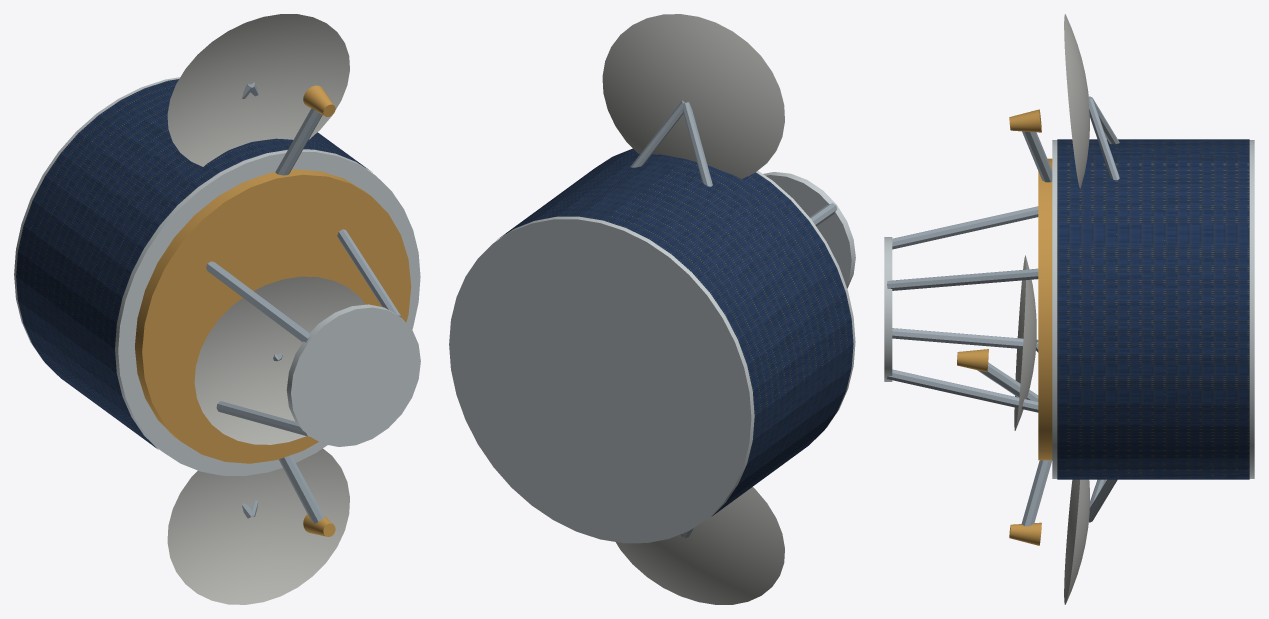
The model's file is ref-hs-356-8697.glb.
3 views of the same model, side by side, from view 1: azimuth 30°, elevation 25°; view 2: azimuth 150°, elevation 25°; view 3: azimuth 270°, elevation 25° (orthographic). The views are drawn at different scales.
Visible parts, largest first — view 1: Communications reflector (×2), Body-mounted solar cells, Despun equipment deck, Antenna tower platform, Solar drum core, Deck-mounted reflector, Antenna tower leg (×3), Offset feed boom (×2), Feed horn; view 2: Solar drum core, Body-mounted solar cells, Communications reflector (×2), Antenna tower platform, Shell hinge strut (×2); view 3: Body-mounted solar cells, Antenna tower leg (×4), Communications reflector (×2), Despun equipment deck, Solar drum core, Offset feed boom (×3), Deck-mounted reflector, Feed horn (×3), Antenna tower platform, Shell hinge strut.
Part boxes in pixels (<box>): Communications reflector (×2): <box>167,14,349,604</box>; Body-mounted solar cells: <box>16,79,372,449</box>; Despun equipment deck: <box>135,169,411,463</box>; Antenna tower platform: <box>286,304,420,446</box>; Solar drum core: <box>14,77,420,475</box>; Deck-mounted reflector: <box>194,276,365,444</box>; Antenna tower leg (×3): <box>206,229,401,436</box>; Offset feed boom (×2): <box>275,108,324,523</box>; Feed horn: <box>303,85,335,116</box>; Solar drum core: <box>449,148,855,543</box>; Body-mounted solar cells: <box>497,148,853,516</box>; Communications reflector (×2): <box>602,14,784,604</box>; Antenna tower platform: <box>763,172,855,288</box>; Shell hinge strut (×2): <box>630,100,712,186</box>; Body-mounted solar cells: <box>1057,139,1249,479</box>; Antenna tower leg (×4): <box>887,206,1038,412</box>; Communications reflector (×2): <box>1064,14,1089,604</box>; Despun equipment deck: <box>1038,158,1052,460</box>; Solar drum core: <box>1052,140,1254,478</box>; Offset feed boom (×3): <box>977,131,1052,526</box>; Deck-mounted reflector: <box>1014,255,1036,430</box>; Feed horn (×3): <box>957,109,1041,545</box>; Antenna tower platform: <box>884,237,892,381</box>; Shell hinge strut: <box>1088,99,1119,180</box>.
Size of the model in its own units: 2.21 by 4.07 by 2.4.
Materials: 5 (1 with a texture image).
